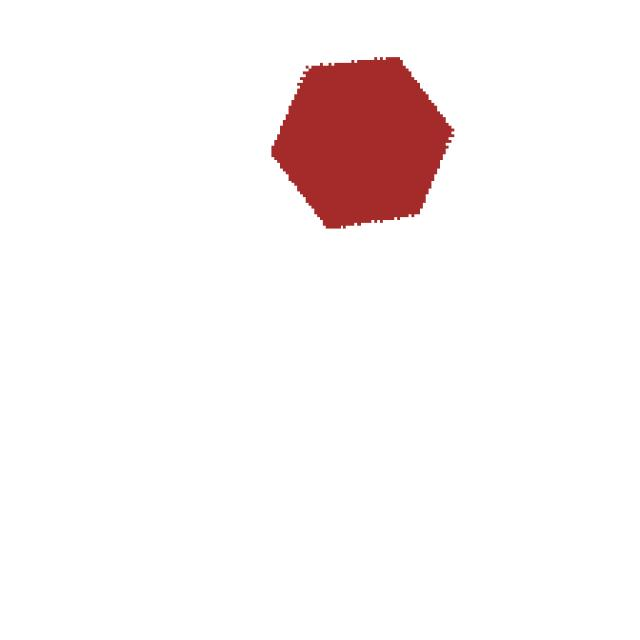Hexagon: (277, 26, 512, 247)
